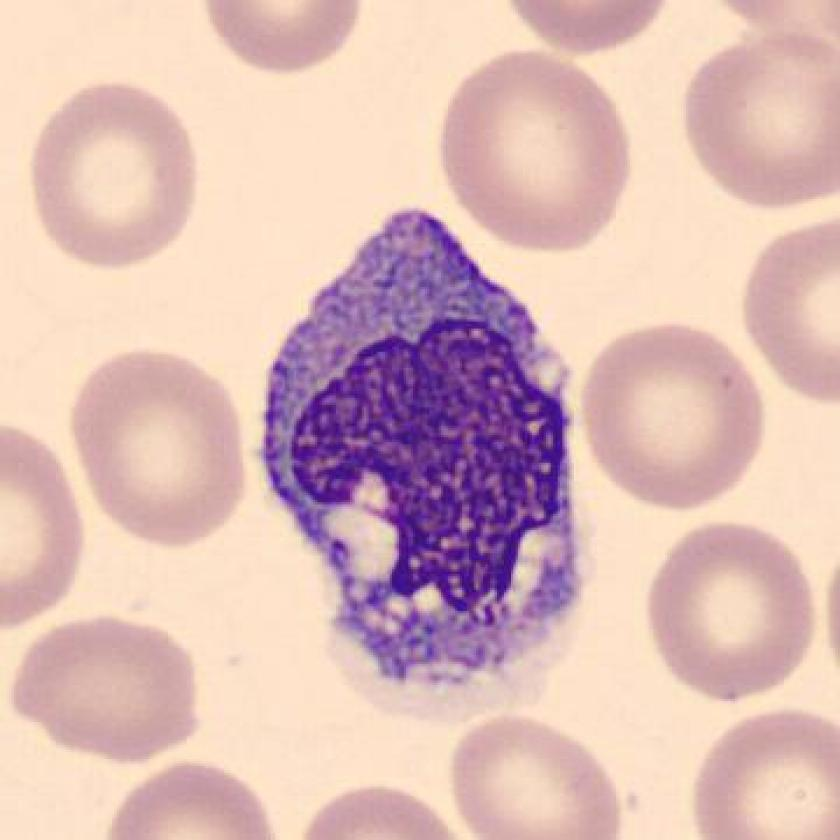monocyte: (239, 191, 605, 723)
